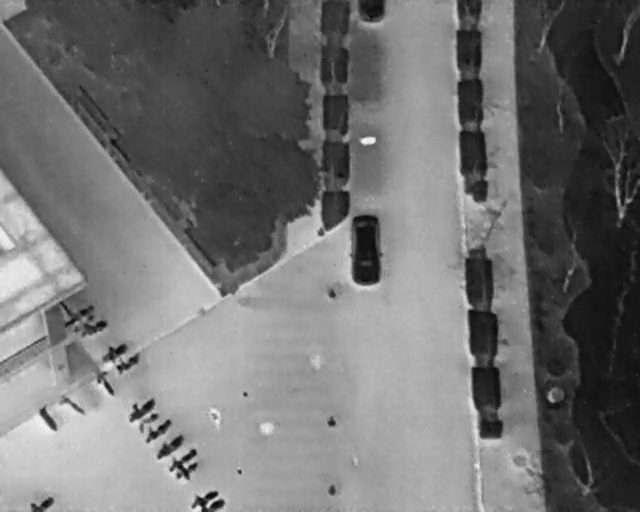Bicycle: (149, 429, 188, 463), (138, 413, 176, 446), (123, 392, 160, 425), (163, 443, 200, 475), (169, 455, 204, 487), (54, 390, 88, 422), (90, 366, 120, 401), (34, 401, 62, 435), (98, 339, 131, 367), (78, 315, 112, 341), (187, 482, 218, 510), (112, 350, 144, 376), (133, 408, 163, 433), (69, 311, 97, 337), (69, 301, 98, 323), (28, 495, 56, 510), (200, 499, 227, 510)
Car: (347, 213, 384, 288), (354, 0, 386, 24)
Person: (207, 406, 223, 432)
